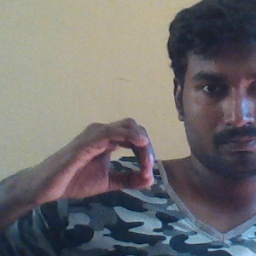O: (44, 118, 163, 204)
